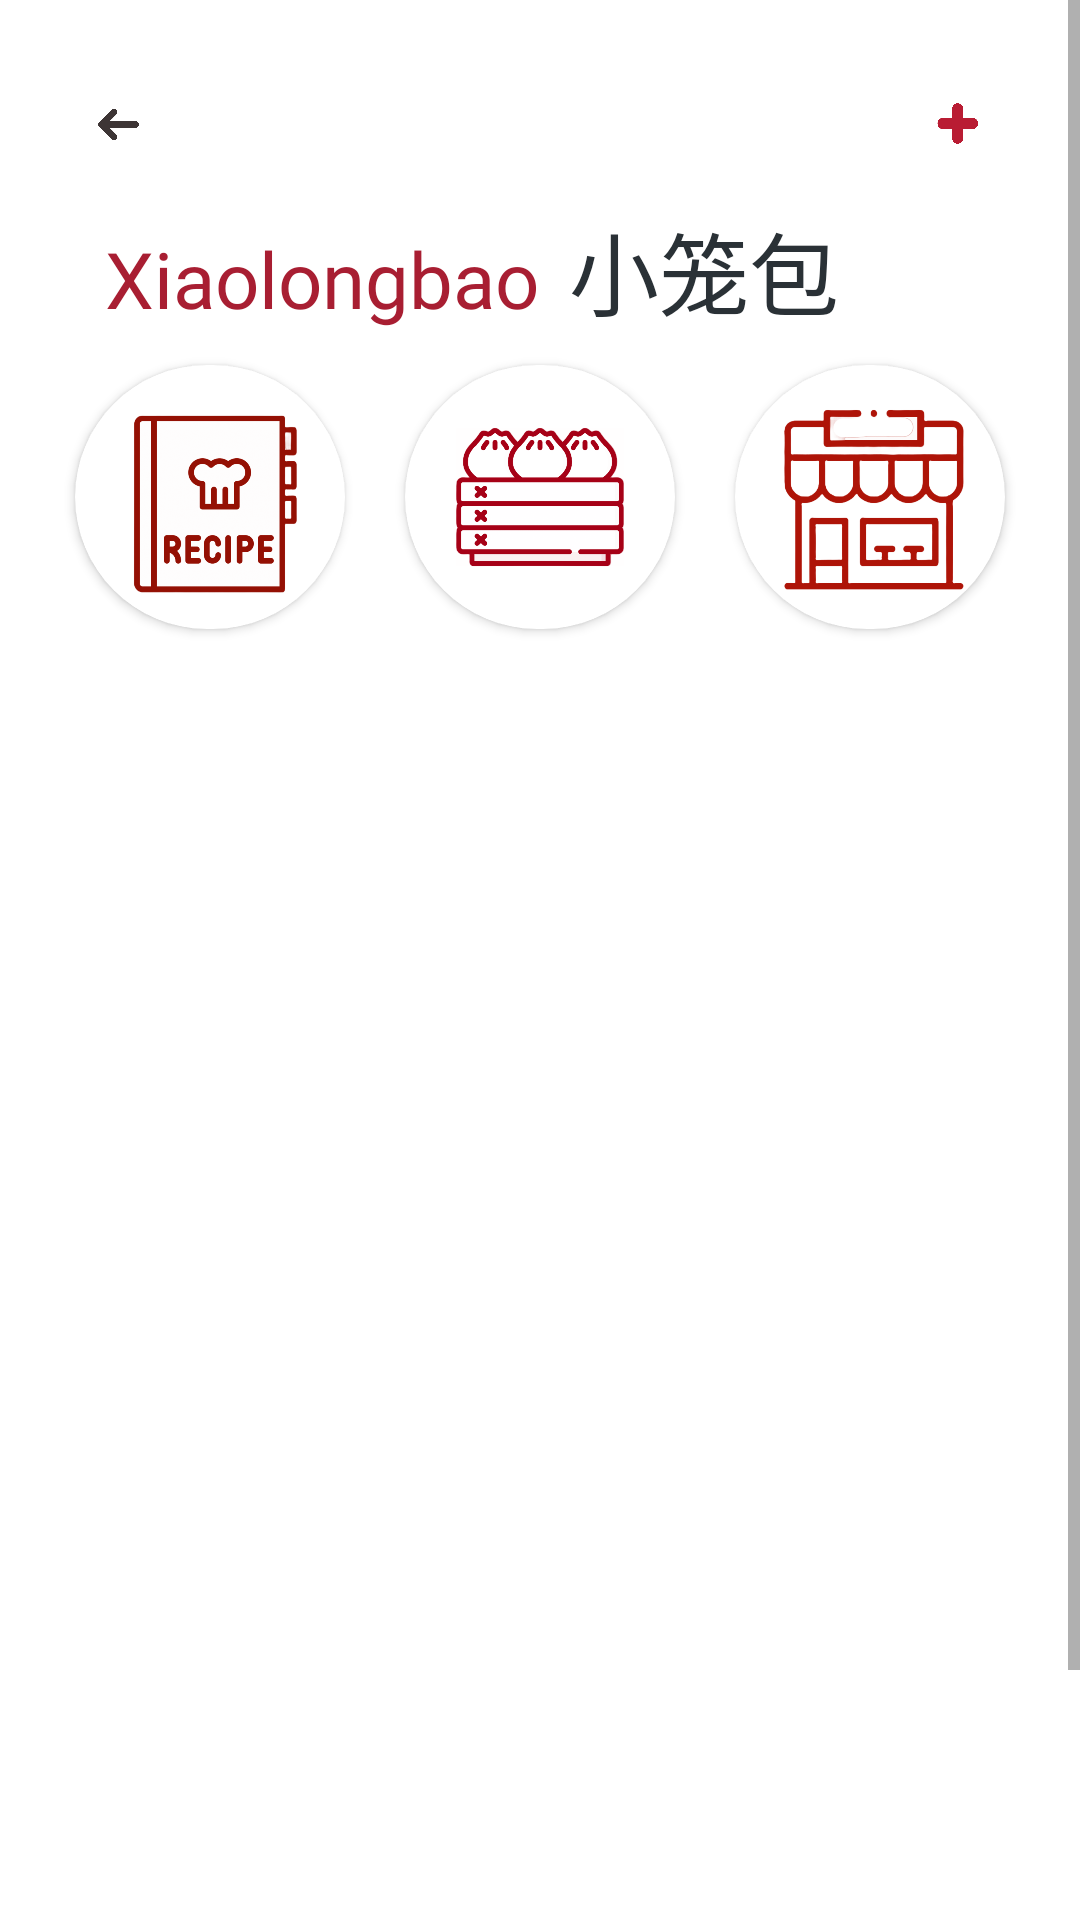

Icons on this 1080 x 1920 Android screen, each with its box as (x1, y1, x2, y2):
back arrow: (98, 109, 139, 140)
plus: (937, 103, 978, 144)
restaurant: (747, 410, 996, 590)
